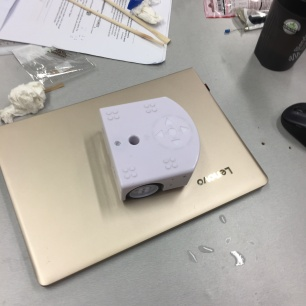thymio: (95, 93, 202, 204)
